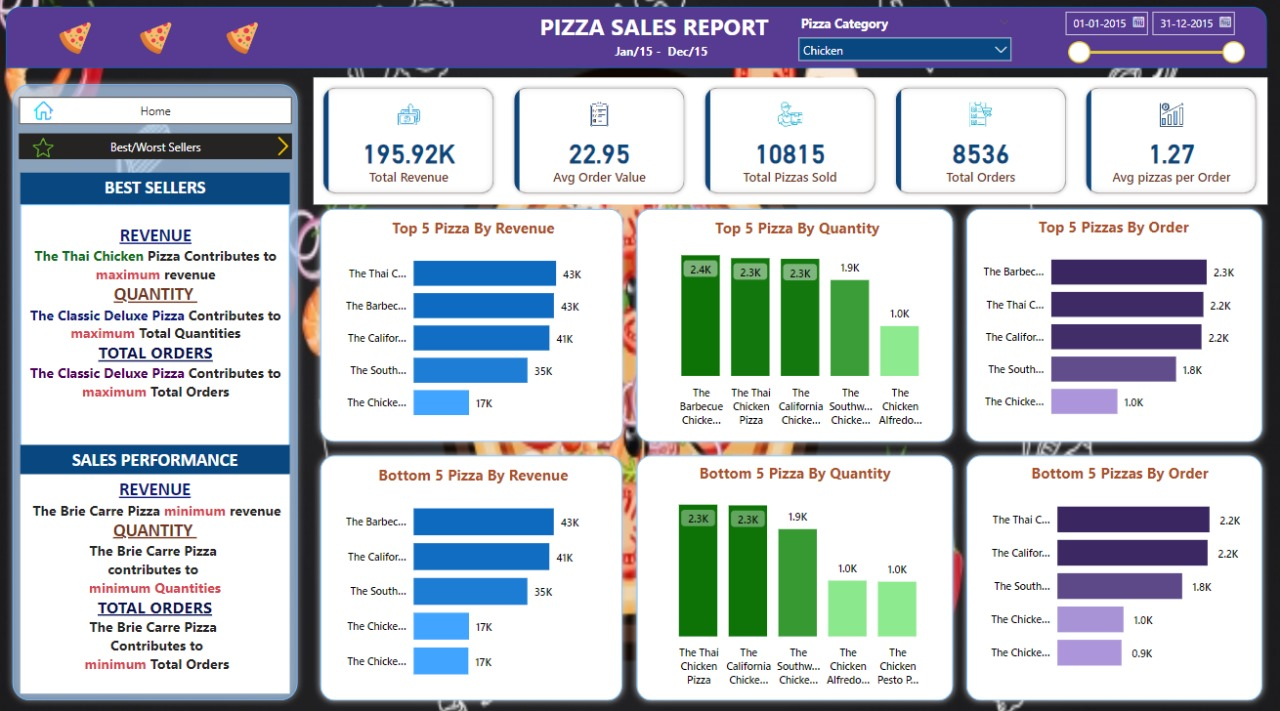

What the dashboard file says about the page in this screenshot:
{"tool":"powerbi","page":{"name":"Best/Worst Sellers","canvas":[1500,836],"ordinal":1},"visuals":[{"type":"cardVisual","fields":{"Data":["pizza_sales.Total_Revenue","pizza_sales.Avg Order Value","pizza_sales.Total Pizzas Sold","pizza_sales.Total_Orders","pizza_sales.Avg pizzas per Order"]},"box":[370.6,81.7,1128.7,159.2],"z":0},{"type":"shape","box":[9.9,9.9,1475.4,71.9],"z":1000},{"type":"textbox","box":[608.8,9.9,312.8,45.1],"z":2000},{"type":"textbox","box":[685,46.7,185,35],"z":3000},{"type":"image","box":[53.3,23.3,76.7,48.3],"z":4000},{"type":"shape","box":[373.4,238.1,366.4,288.9],"z":5000},{"type":"shape","box":[9.9,93,349.5,737],"z":6000},{"type":"textbox","box":[27.3,204.1,314.9,37],"z":7000},{"type":"textbox","box":[27.3,241,314.9,286],"z":8000},{"type":"textbox","box":[27.3,522.2,314.9,35.3],"z":9000},{"type":"textbox","box":[27.3,557.5,314.9,257.1],"z":10000},{"type":"slicer","fields":{"Values":["pizza_sales.pizza_category"]},"box":[927.2,14.1,269.2,64.8],"z":11000},{"type":"slicer","fields":{"Values":["pizza_sales.order_date"]},"box":[1236.7,5,230,76.7],"z":12000},{"type":"shape","box":[739.8,238.1,386.1,288.9],"z":13000},{"type":"shape","box":[1125.9,238.1,362.2,288.9],"z":14000},{"type":"shape","box":[370.6,527,369.2,303],"z":15000},{"type":"shape","box":[739.8,527,386.1,303],"z":16000},{"type":"shape","box":[1125.9,527,362.2,303],"z":17000},{"type":"barChart","title":" Top 5 Pizza By Revenue","fields":{"Category":["pizza_sales.pizza_name"],"Y":["pizza_sales.Total Revenue"]},"box":[391.7,256.5,331.2,252.2],"z":18000},{"type":"barChart","title":" Bottom 5 Pizza By Revenue","fields":{"Category":["pizza_sales.pizza_name"],"Y":["pizza_sales.Total Revenue"]},"box":[392,546.3,331,268.3],"z":19000},{"type":"columnChart","title":" Top 5 Pizza By Quantity","fields":{"Category":["pizza_sales.pizza_name"],"Y":["pizza_sales.Total Pizzas Sold"]},"box":[764.8,257.1,343.8,252.3],"z":20000},{"type":"columnChart","title":" Bottom 5 Pizza By Quantity","fields":{"Category":["pizza_sales.pizza_name"],"Y":["pizza_sales.Total Pizzas Sold"]},"box":[761.6,544.7,343.8,269.9],"z":21000},{"type":"barChart","title":" Top 5 Pizzas By Order","fields":{"Category":["pizza_sales.pizza_name"],"Y":["pizza_sales.Total Orders"]},"box":[1134.3,255.5,343.8,252.3],"z":22000},{"type":"barChart","title":" Bottom 5 Pizzas By Order","fields":{"Category":["pizza_sales.pizza_name"],"Y":["pizza_sales.Total Orders"]},"box":[1140.8,544.7,343.8,258.7],"z":23000},{"type":"pageNavigator","box":[25.7,115.7,319.7,32.1],"z":24000},{"type":"pageNavigator","box":[25.7,159.1,319.7,30.5],"z":25000},{"type":"image","box":[298.8,157.5,72.3,32.1],"z":26000},{"type":"image","box":[26.7,115.6,54.4,32.2],"z":27000},{"type":"image","box":[37,148,34,52],"z":28000},{"type":"image","box":[146.7,23.3,76.7,48.3],"z":29000},{"type":"image","box":[236.7,23.3,98.3,48.3],"z":30000}]}

Visuals, with their boxes in screenshot pixels (x1, y1, x2, y2), scaled from the page's 1500x836 canvas onto the 1280x711 screenshot:
cardVisual - pizza_sales.Total_Revenue x pizza_sales.Avg Order Value: locate(316, 69, 1279, 205)
shape: locate(8, 8, 1267, 70)
textbox: locate(520, 8, 786, 47)
textbox: locate(585, 40, 742, 69)
image: locate(45, 20, 111, 61)
shape: locate(319, 202, 631, 448)
shape: locate(8, 79, 307, 706)
textbox: locate(23, 174, 292, 205)
textbox: locate(23, 205, 292, 448)
textbox: locate(23, 444, 292, 474)
textbox: locate(23, 474, 292, 693)
slicer - pizza_sales.pizza_category: locate(791, 12, 1021, 67)
slicer - pizza_sales.order_date: locate(1055, 4, 1252, 69)
shape: locate(631, 202, 961, 448)
shape: locate(961, 202, 1270, 448)
shape: locate(316, 448, 631, 706)
shape: locate(631, 448, 961, 706)
shape: locate(961, 448, 1270, 706)
" Top 5 Pizza By Revenue" barChart: locate(334, 218, 617, 433)
" Bottom 5 Pizza By Revenue" barChart: locate(335, 465, 617, 693)
" Top 5 Pizza By Quantity" columnChart: locate(653, 219, 946, 433)
" Bottom 5 Pizza By Quantity" columnChart: locate(650, 463, 943, 693)
" Top 5 Pizzas By Order" barChart: locate(968, 217, 1261, 432)
" Bottom 5 Pizzas By Order" barChart: locate(973, 463, 1267, 683)
pageNavigator: locate(22, 98, 295, 126)
pageNavigator: locate(22, 135, 295, 161)
image: locate(255, 134, 317, 161)
image: locate(23, 98, 69, 126)
image: locate(32, 126, 61, 170)
image: locate(125, 20, 191, 61)
image: locate(202, 20, 286, 61)
